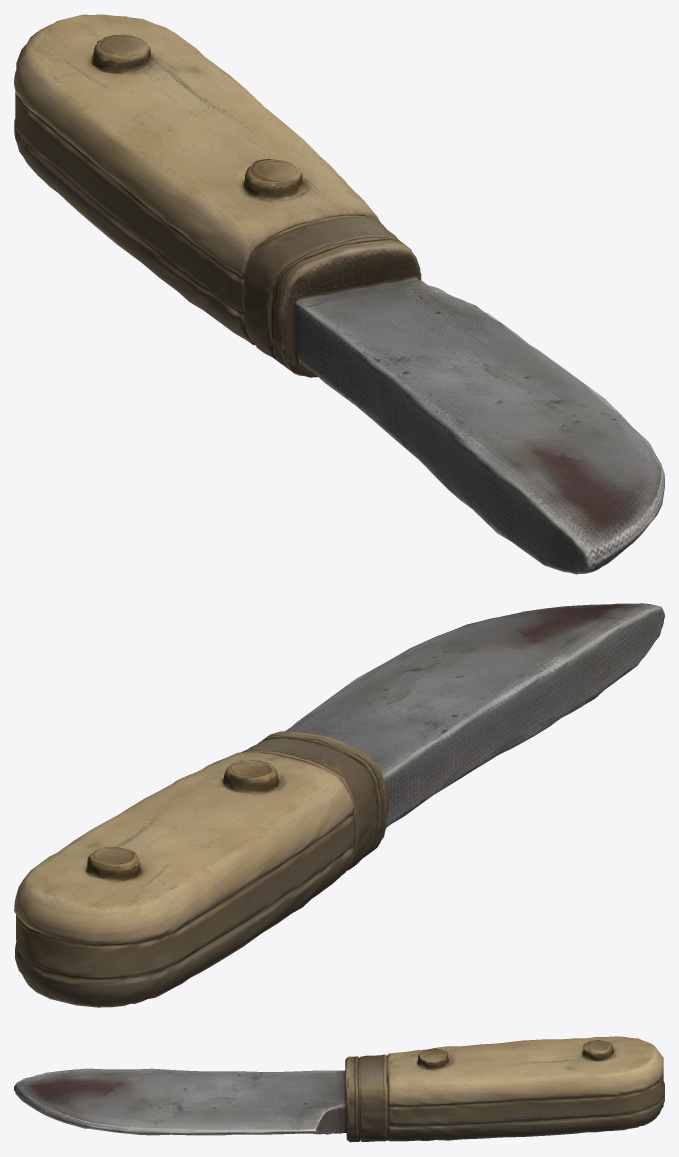
Rendered from scalpel.glb.
The picture shows the model from 3 angles, top to bottom: view 1: azimuth 30°, elevation 25°; view 2: azimuth 150°, elevation 25°; view 3: azimuth 270°, elevation 25°; orthographic projection. The views are drawn at different scales.
Visible parts, largest first — view 1: tripo_node_480e6736-5617-4d7d-af13-fc49a118cf1c; view 2: tripo_node_480e6736-5617-4d7d-af13-fc49a118cf1c; view 3: tripo_node_480e6736-5617-4d7d-af13-fc49a118cf1c.
Part boxes in pixels (bbox=[...]): tripo_node_480e6736-5617-4d7d-af13-fc49a118cf1c: bbox=[14, 14, 664, 574]; tripo_node_480e6736-5617-4d7d-af13-fc49a118cf1c: bbox=[14, 603, 664, 1007]; tripo_node_480e6736-5617-4d7d-af13-fc49a118cf1c: bbox=[14, 1036, 664, 1142].
Size of the model in its own units: 0.0299 by 0.0242 by 0.1606.
1 material, 1 textured.
